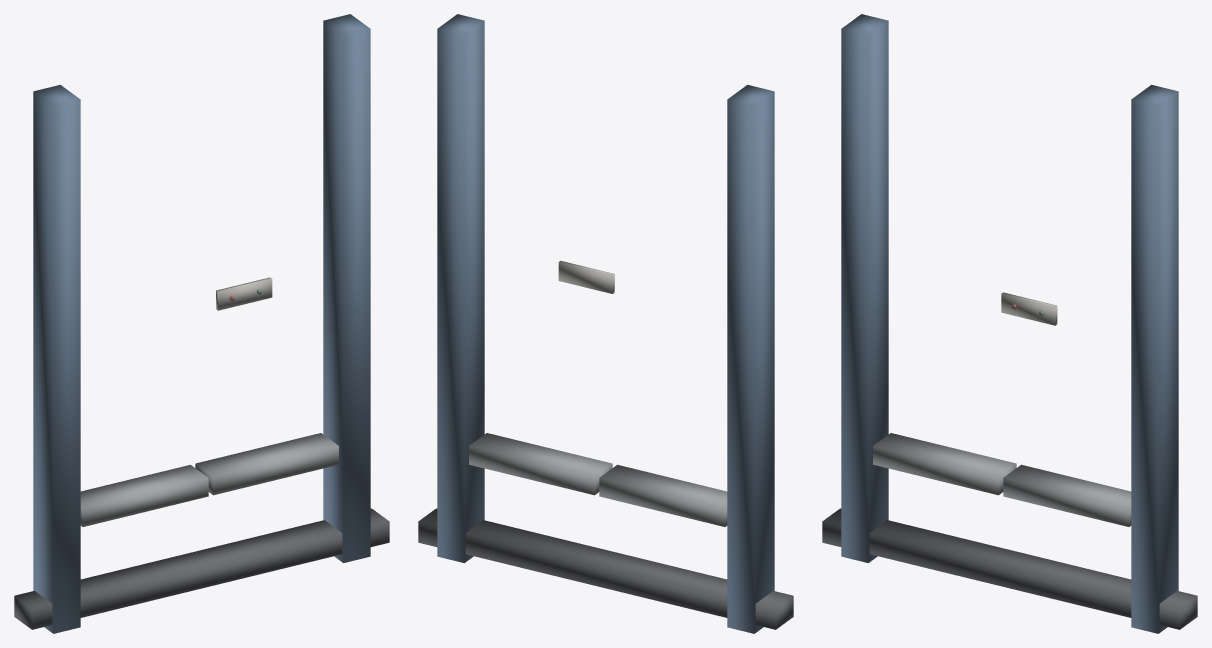
The model's file is two_post_car_lift__tall.glb.
3 renders of one model, left to right at view 1: azimuth 30°, elevation 25°; view 2: azimuth 150°, elevation 25°; view 3: azimuth 330°, elevation 25°, orthographic.
Visible parts, largest first — view 1: world; view 2: world; view 3: world.
Part boxes in pixels (x1,y1,x2,y2): world: (14,14,389,633); world: (418,14,793,633); world: (822,14,1197,633).
Bounding box in the file's own units: 1.85 × 2.61 × 0.211.
